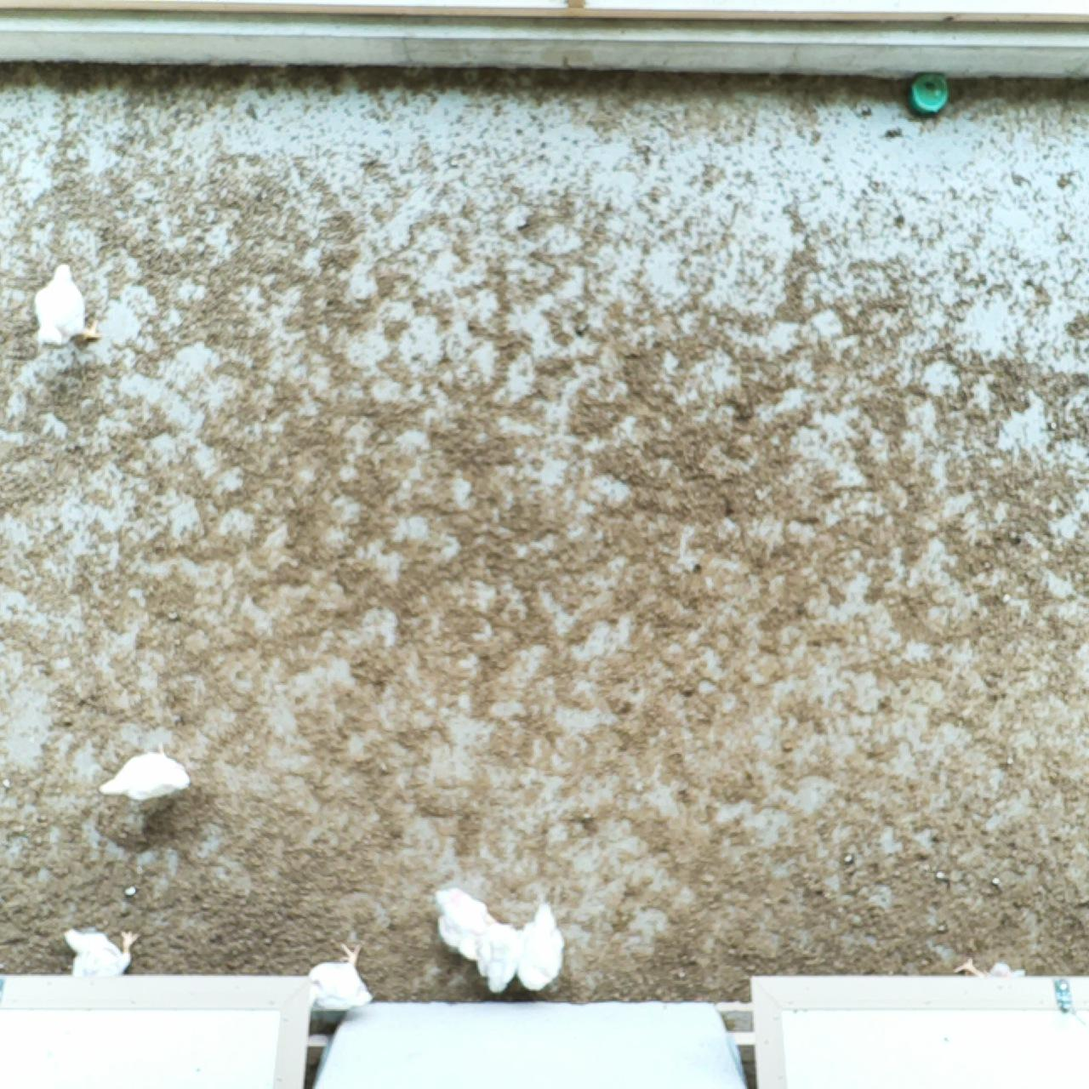chicken: (25, 261, 106, 352), (97, 739, 195, 805), (298, 940, 378, 1016), (516, 899, 571, 994), (430, 883, 492, 963), (61, 922, 143, 982), (471, 919, 524, 996)
